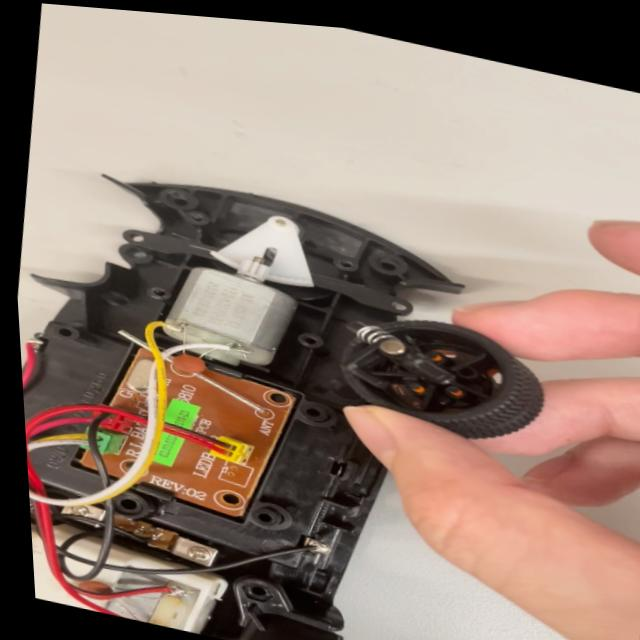motor: (148, 237, 306, 392)
wheel: (319, 290, 540, 457)
